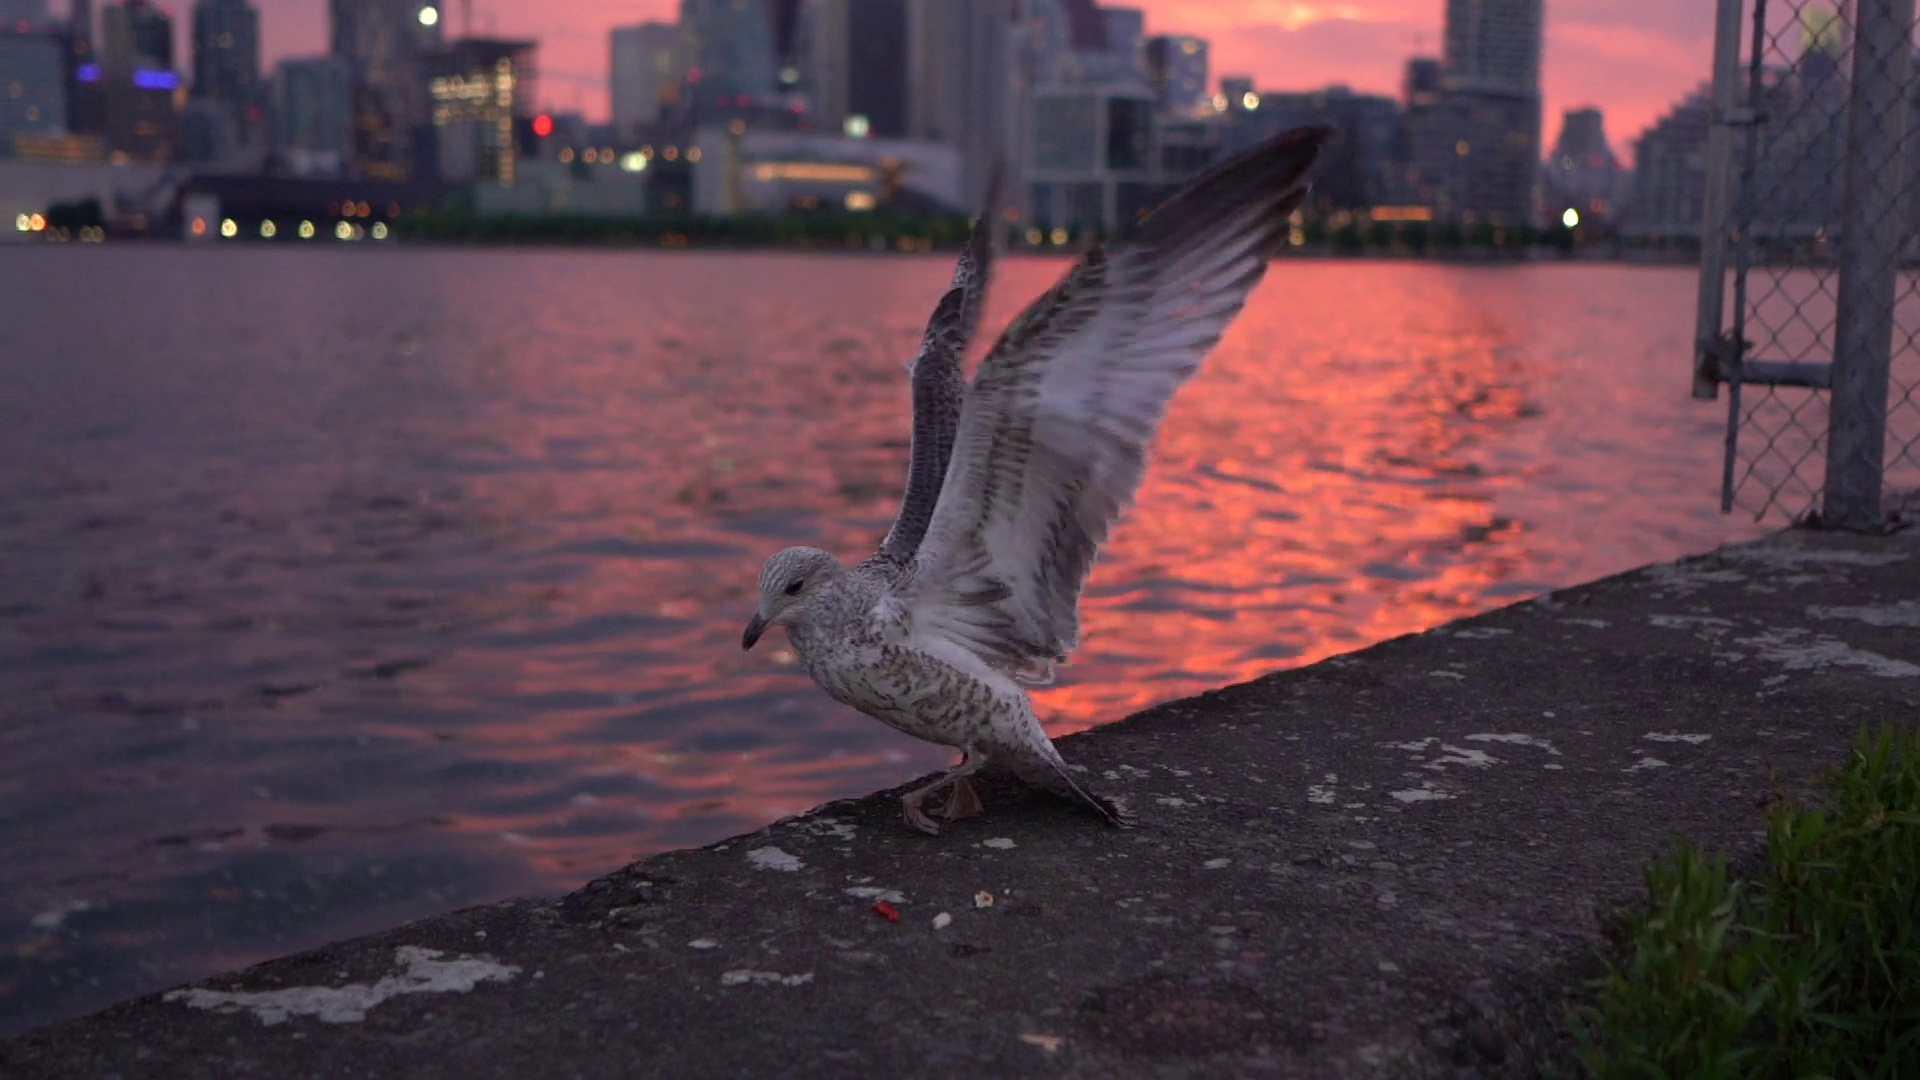bird: (740, 125, 1333, 836)
